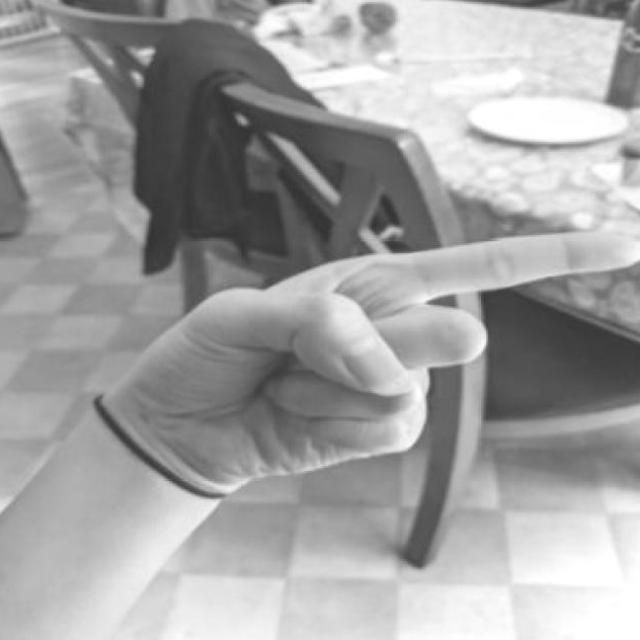G: (98, 206, 640, 499)
